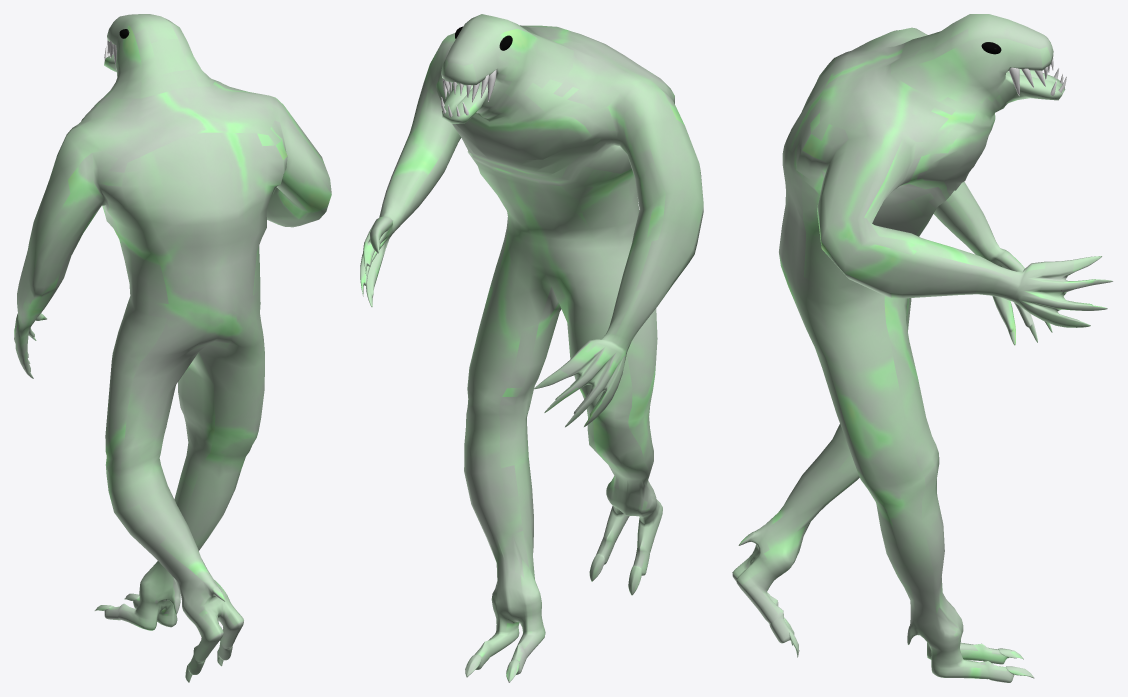
The model's file is Berserkercorrer.0074.obj.
3 renders of one model, left to right at view 1: azimuth 30°, elevation 25°; view 2: azimuth 150°, elevation 25°; view 3: azimuth 270°, elevation 25°, orthographic. The views are drawn at different scales.
Visible parts, largest first — view 1: polySurface27; view 2: polySurface27; view 3: polySurface27.
Part boxes in pixels (x1,y1,x2,y2): polySurface27: (14, 14, 331, 682); polySurface27: (360, 14, 703, 682); polySurface27: (732, 14, 1112, 682).
Size of the model in its own units: 11.59 by 23.95 by 12.46.
1 material, 1 textured.
